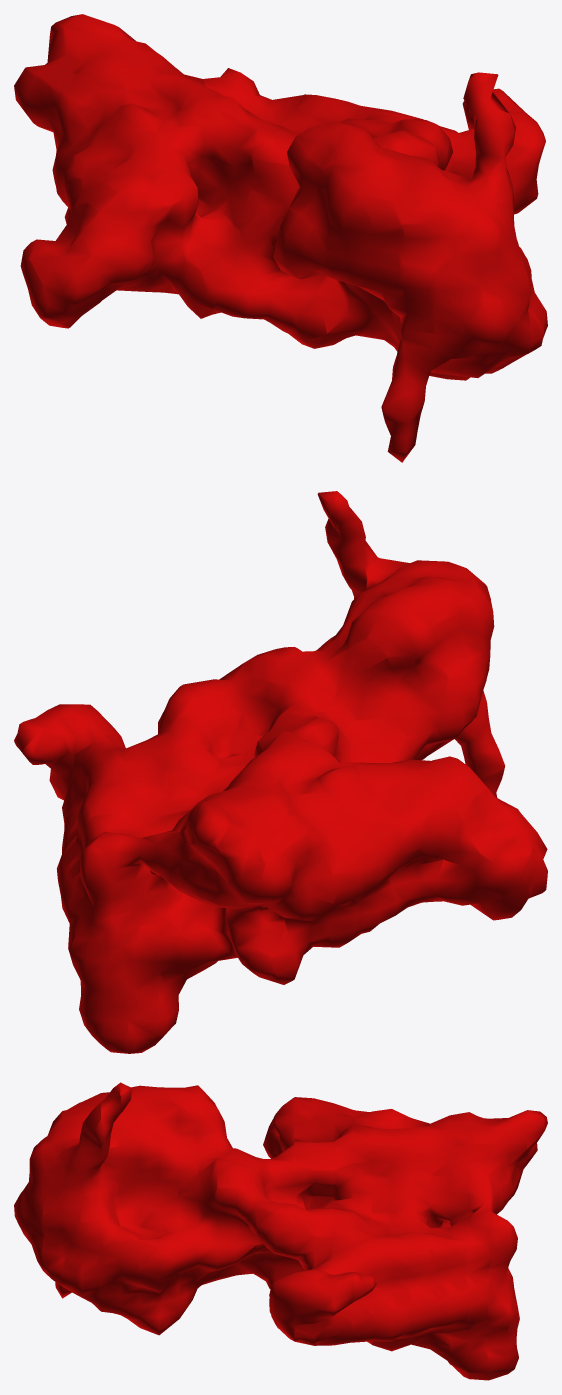
Rendered from CoarseMS_3j1z.dae.
3 views of the same model, one above another, from view 1: azimuth 30°, elevation 25°; view 2: azimuth 150°, elevation 25°; view 3: azimuth 270°, elevation 25° (orthographic). The views are drawn at different scales.
Parts seen in each view (by area): view 1: CoarseMS_3j1z_mesh; view 2: CoarseMS_3j1z_mesh; view 3: CoarseMS_3j1z_mesh.
Part boxes in pixels (<box>): CoarseMS_3j1z_mesh: <box>14,14,547,462</box>; CoarseMS_3j1z_mesh: <box>14,491,547,1053</box>; CoarseMS_3j1z_mesh: <box>14,1082,547,1380</box>.
Size of the model in its own units: 86.11 by 98.79 by 61.89.
